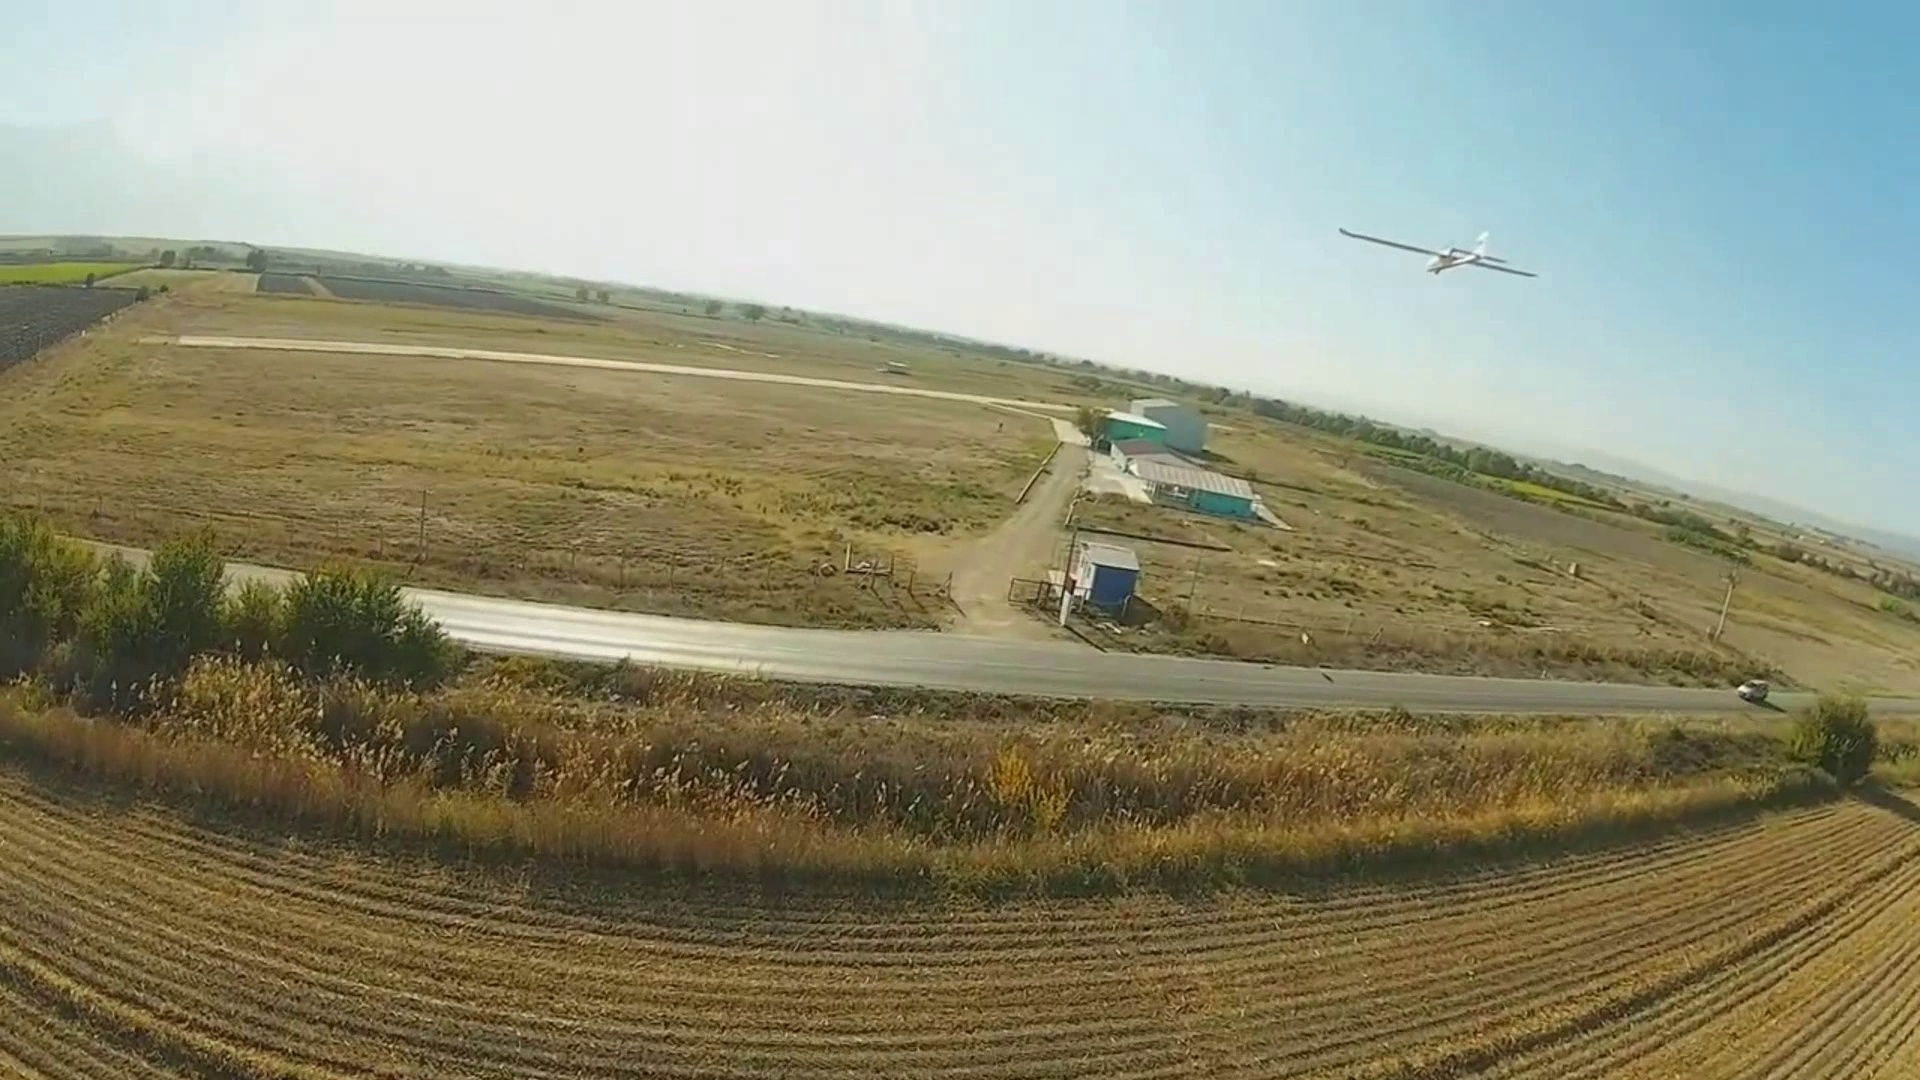airplane: (1335, 222, 1540, 280)
